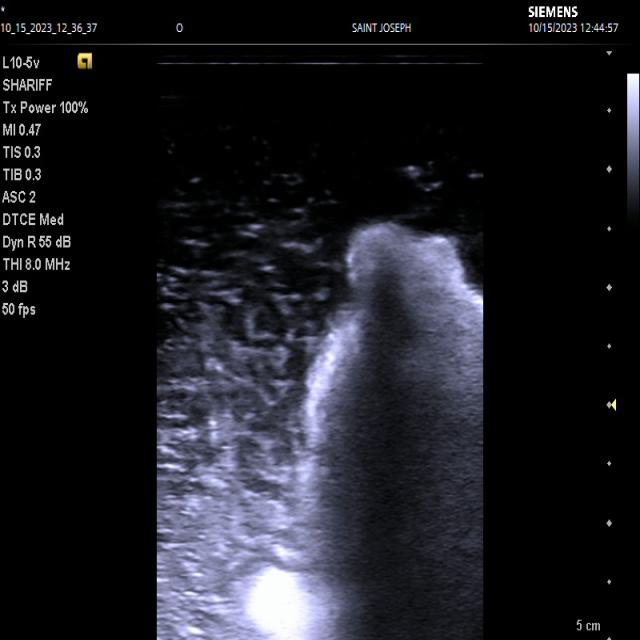tissue: (246, 224, 482, 640)
